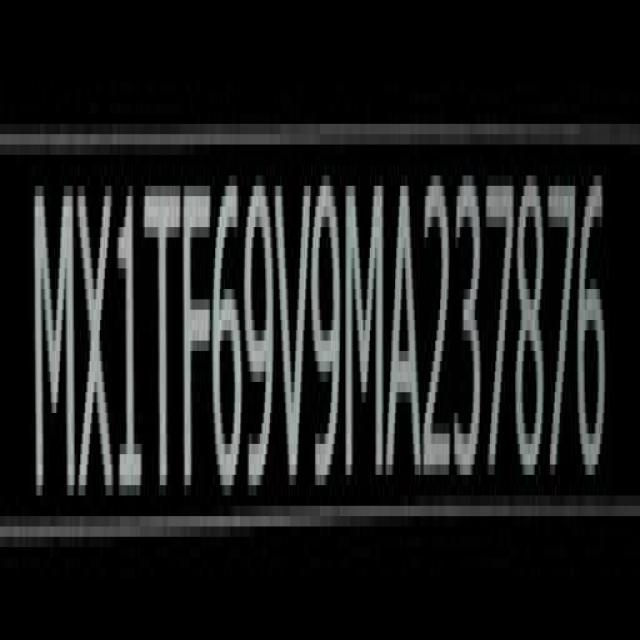2: (424, 174, 452, 490)
3: (457, 175, 483, 493)
6: (212, 182, 244, 509), (577, 161, 604, 497)
7: (486, 171, 514, 490), (551, 171, 576, 489)
8: (518, 174, 546, 489)
9: (246, 182, 276, 508), (311, 181, 341, 498)
A: (390, 176, 424, 490)
F: (183, 177, 211, 513)
L: (116, 181, 144, 515)
M: (35, 180, 74, 515), (345, 178, 385, 492)
T: (147, 177, 178, 514)
V: (280, 176, 310, 504)
X: (79, 179, 115, 516)
